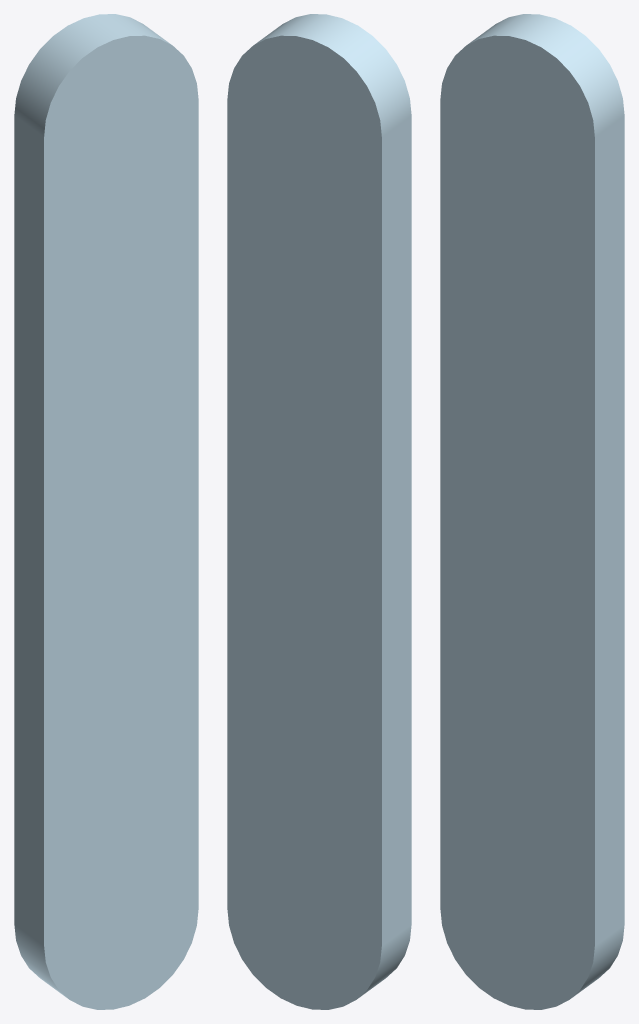
3 renders of one model, left to right at view 1: azimuth 30°, elevation 25°; view 2: azimuth 150°, elevation 25°; view 3: azimuth 330°, elevation 25°, orthographic.
Parts seen in each view (by area): view 1: mesh60, mesh58, mesh55, mesh57; view 2: mesh59, mesh58, mesh55, mesh57; view 3: mesh60, mesh56, mesh55, mesh57.
Boxes of the visible parts, <box> form: mesh60: <box>44,35,198,1009</box>; mesh58: <box>14,116,43,945</box>; mesh55: <box>14,14,171,136</box>; mesh57: <box>14,924,67,998</box>; mesh59: <box>227,35,381,1009</box>; mesh58: <box>382,116,411,945</box>; mesh55: <box>254,14,411,136</box>; mesh57: <box>358,924,411,998</box>; mesh60: <box>440,35,594,1009</box>; mesh56: <box>595,116,624,945</box>; mesh55: <box>467,14,624,136</box>; mesh57: <box>571,924,624,998</box>.
Size of the model in its own units: 0.03 by 0.1798 by 0.01.
